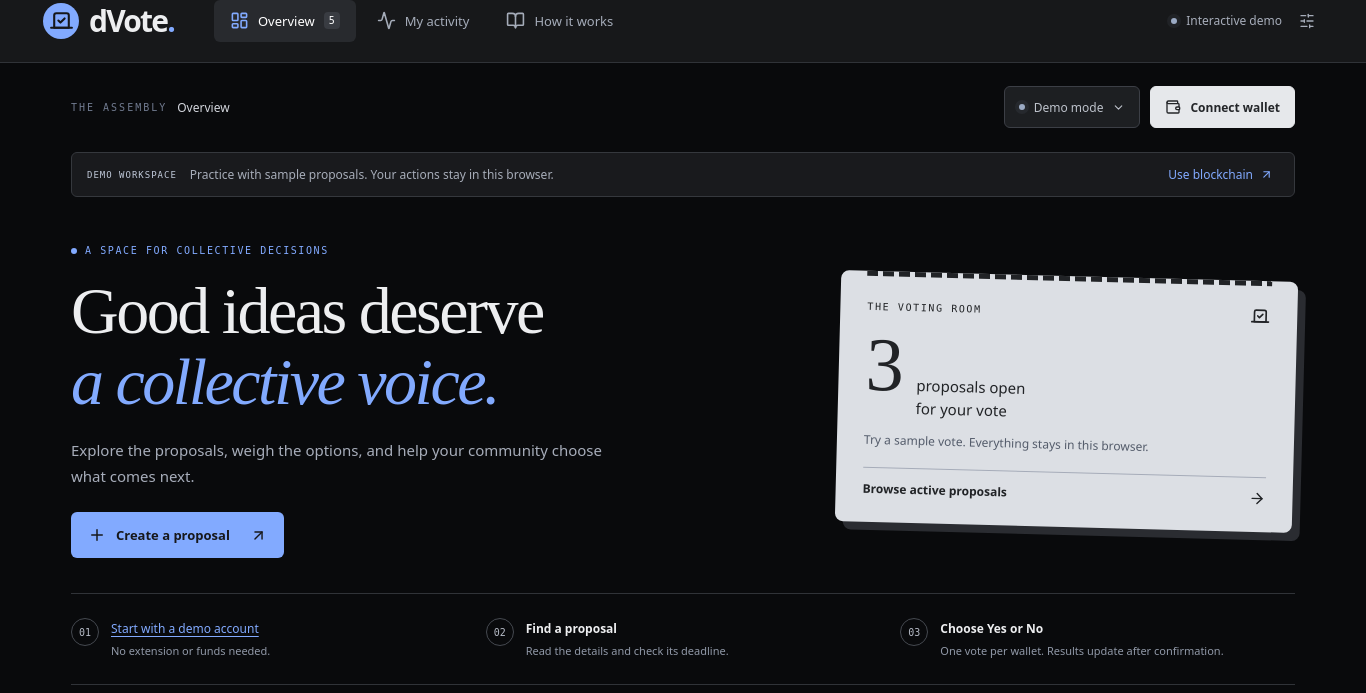
Test: dVote user flows › shows wallet connection failures inside the active dialog
Click the button "Use blockchain": [1221, 174] box [1162,165,1279,184]
(page scrolled)
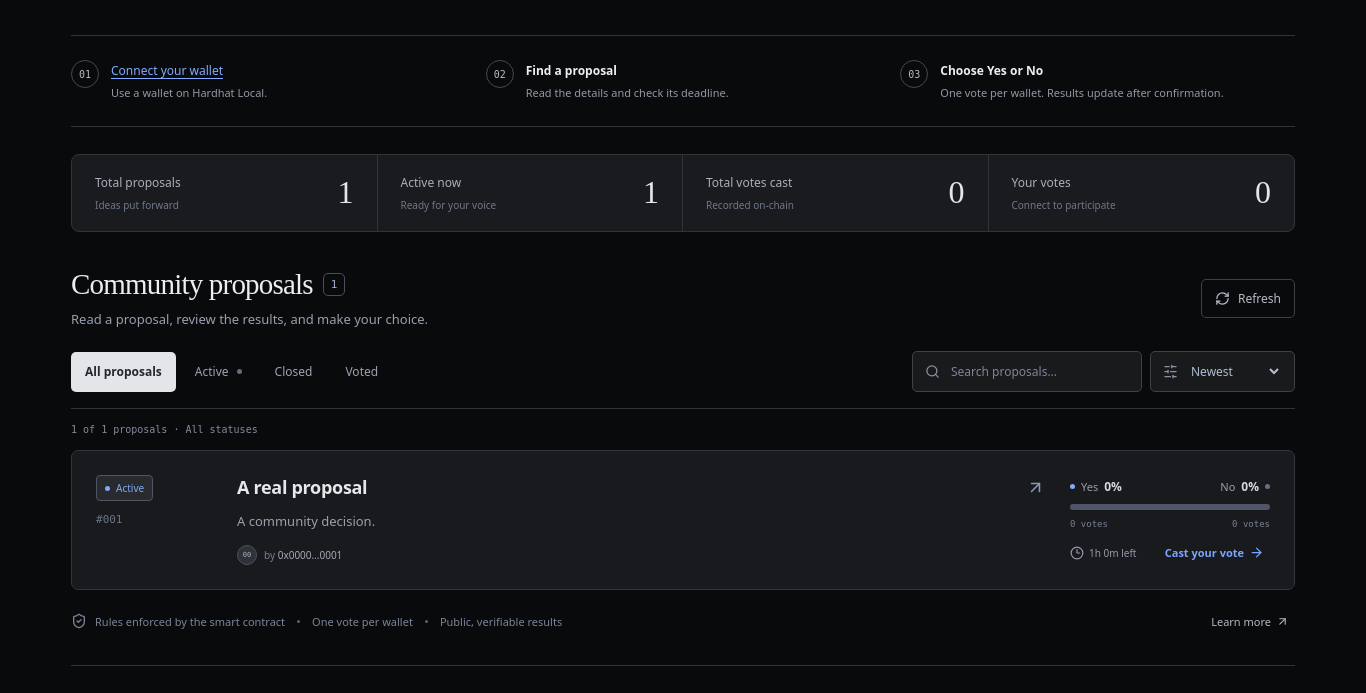
Expected: the button "A real proposal" is shown
Click the button "A real proposal": [302, 487] box [237,475,1045,501]
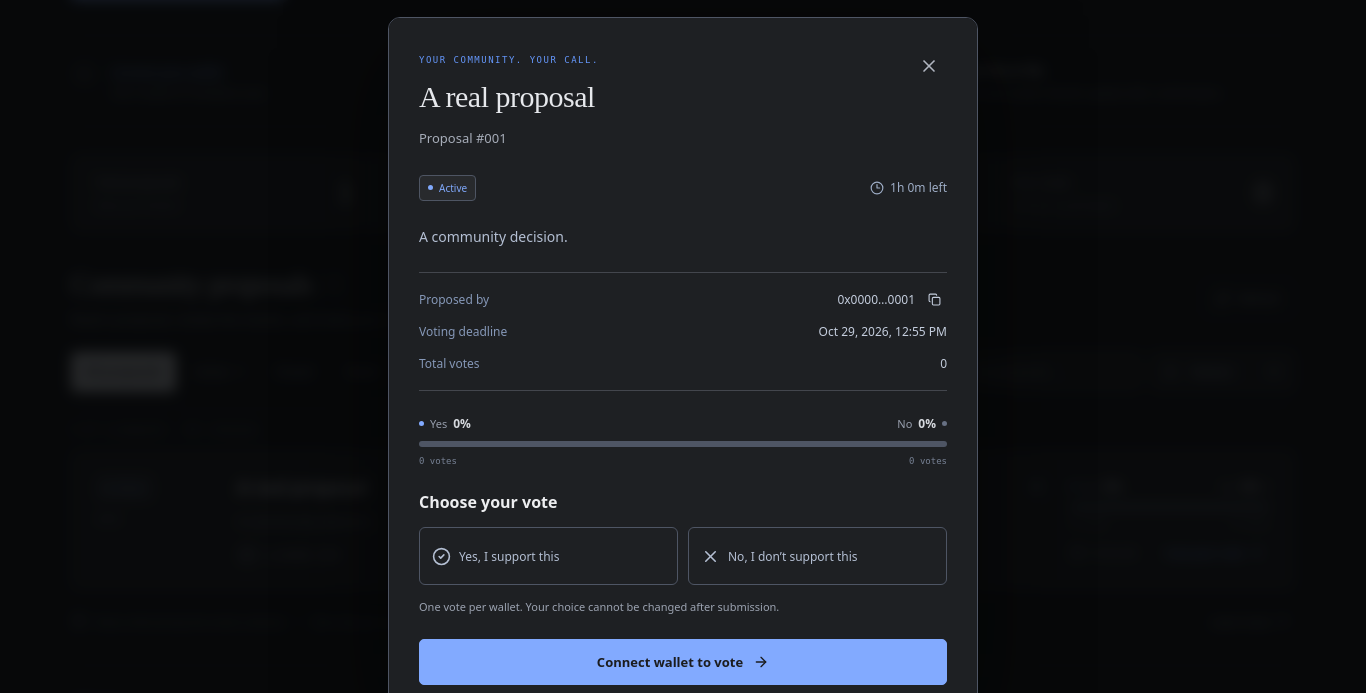
Click the button "Connect wallet to vote": [683, 662] box [419,639,947,685]
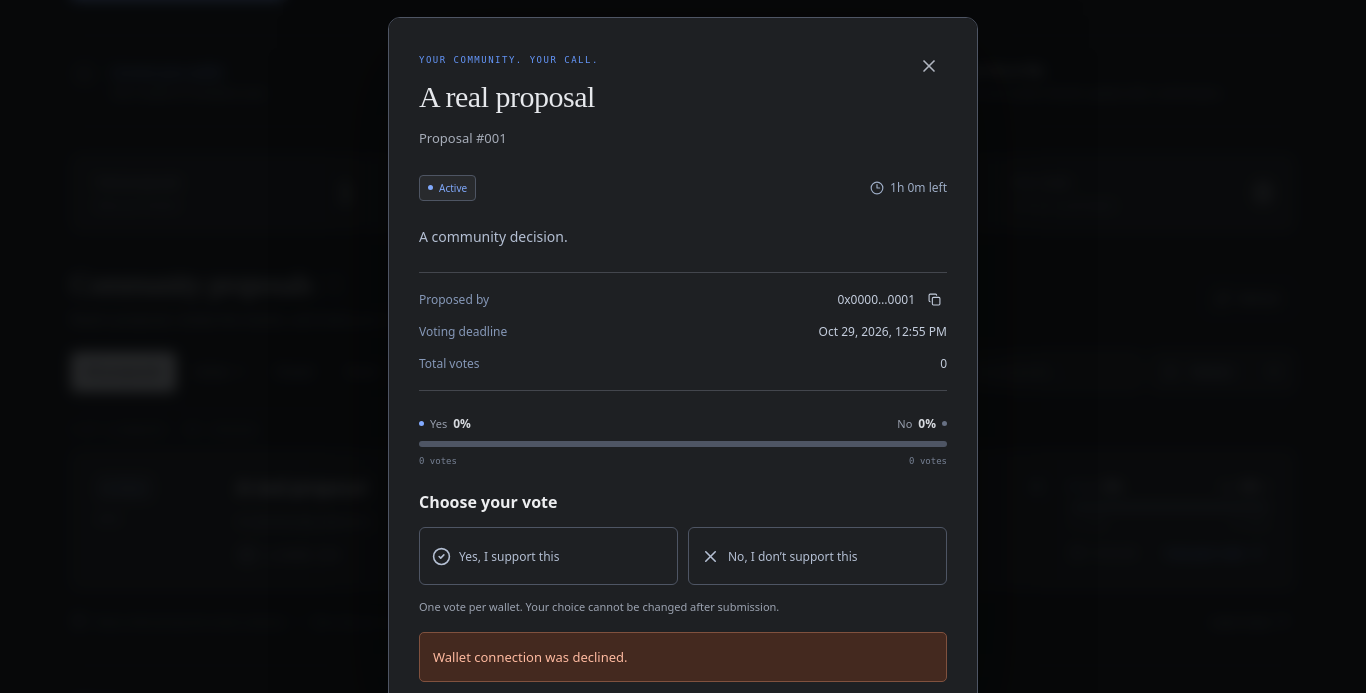
Expected: the message reads "Wallet connection was declined.", [433,648,628,666]
